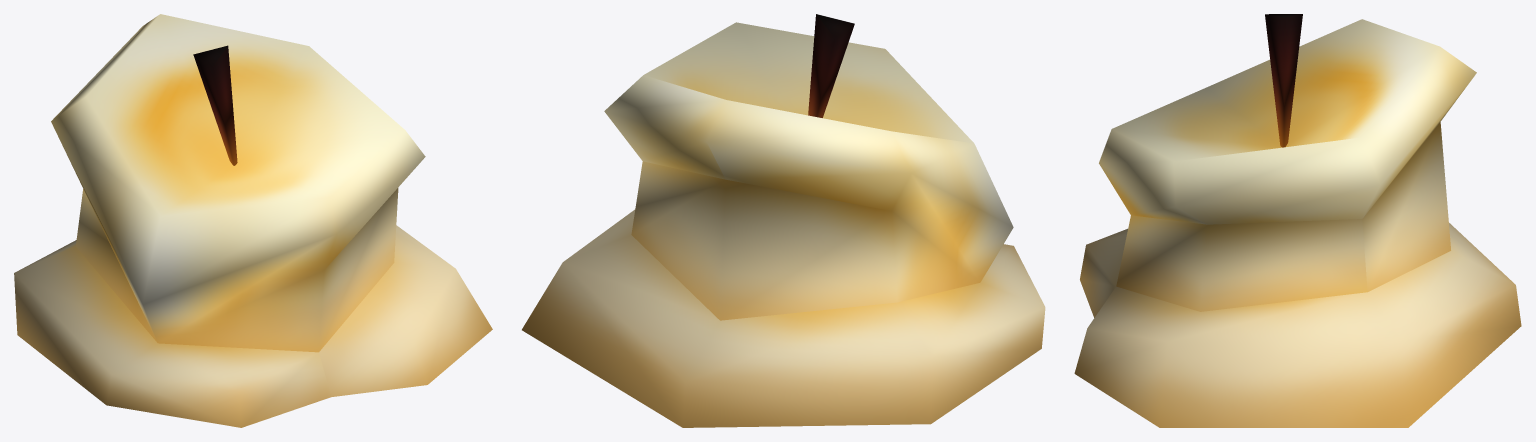
Rendered from candle_1.fbx.
3 views of the same model, side by side, from view 1: azimuth 30°, elevation 25°; view 2: azimuth 150°, elevation 25°; view 3: azimuth 270°, elevation 25° (orthographic). The views are drawn at different scales.
Parts seen in each view (by area): view 1: candle_1; view 2: candle_1; view 3: candle_1.
Boxes of the visible parts, x1,y1,x2,y2 form: candle_1: (14,14,492,427); candle_1: (522,14,1045,427); candle_1: (1074,14,1521,427).
Bounding box in the file's own units: 1.57 × 1.19 × 1.57.
